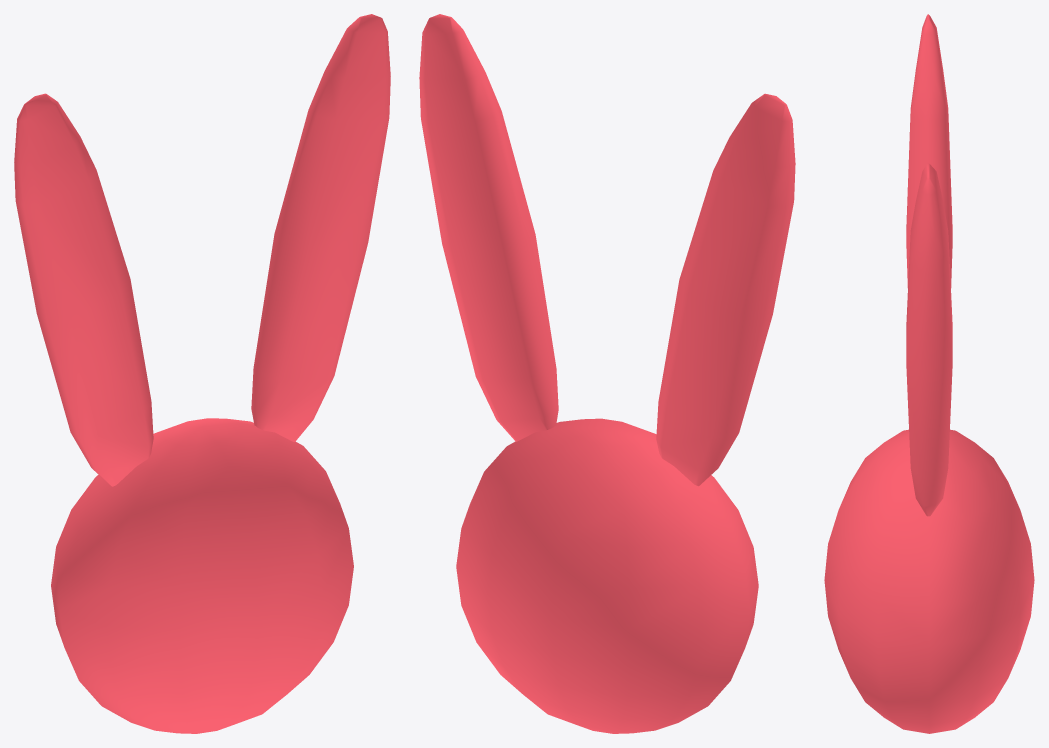
Rendered from ps2_save-icons_getsumentoheikimina.glb.
The picture shows the model from 3 angles, left to right: view 1: azimuth 30°, elevation 25°; view 2: azimuth 150°, elevation 25°; view 3: azimuth 270°, elevation 25°; orthographic projection. The views are drawn at different scales.
Visible parts, largest first — view 1: SAVE.ICO; view 2: SAVE.ICO; view 3: SAVE.ICO.
Part boxes in pixels (x1=…): SAVE.ICO: x1=14, y1=14, x2=390, y2=733; SAVE.ICO: x1=419, y1=14, x2=795, y2=733; SAVE.ICO: x1=824, y1=14, x2=1034, y2=733.
Bounding box in the file's own units: 2.08 × 3.59 × 1.09.
Materials: 1 (1 with a texture image).
